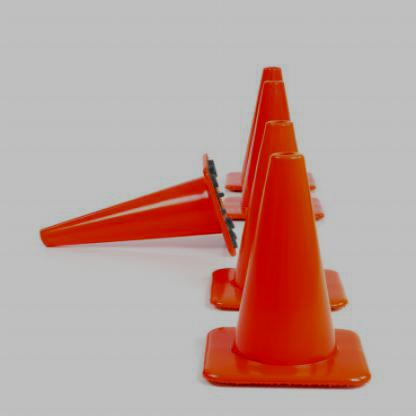cone: (202, 154, 370, 385), (39, 154, 238, 256), (242, 120, 309, 310)
